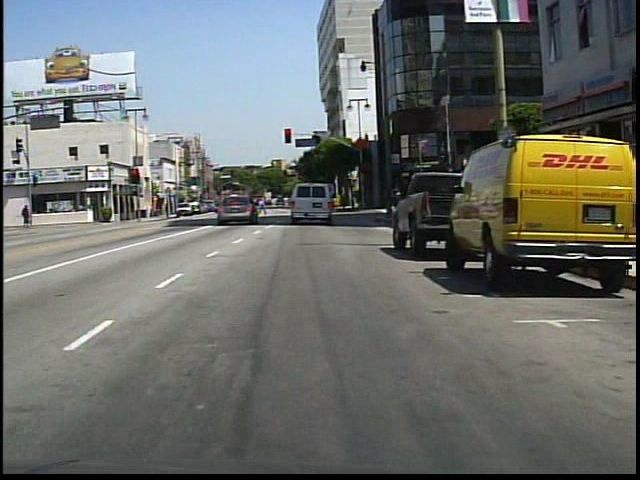person: (287, 191, 304, 222), (258, 194, 271, 219), (21, 202, 31, 227)
